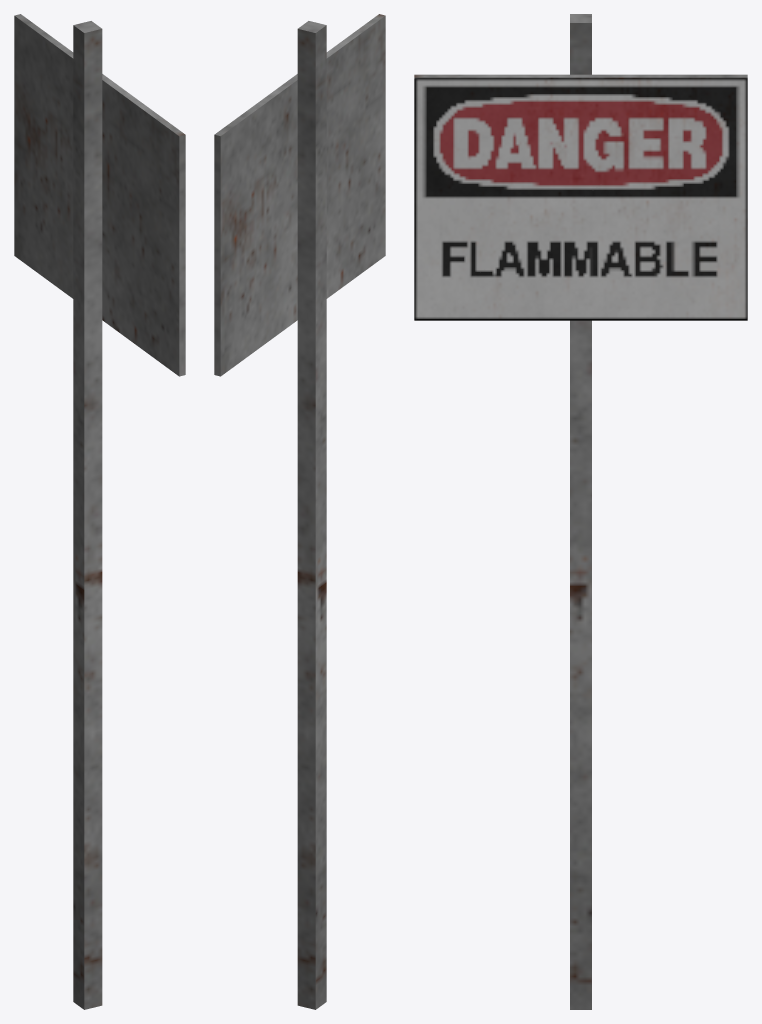
Rendered from Sign_7.fbx.
3 views of the same model, side by side, from view 1: azimuth 30°, elevation 25°; view 2: azimuth 150°, elevation 25°; view 3: azimuth 270°, elevation 25° (orthographic).
Parts seen in each view (by area): view 1: Sign_7; view 2: Sign_7; view 3: Sign_7.
Part boxes in pixels (bbox=[...]): Sign_7: bbox=[14, 14, 185, 1009]; Sign_7: bbox=[214, 14, 385, 1009]; Sign_7: bbox=[414, 14, 747, 1009].
Bounding box in the file's own units: 5.76 × 221 × 67.46.
